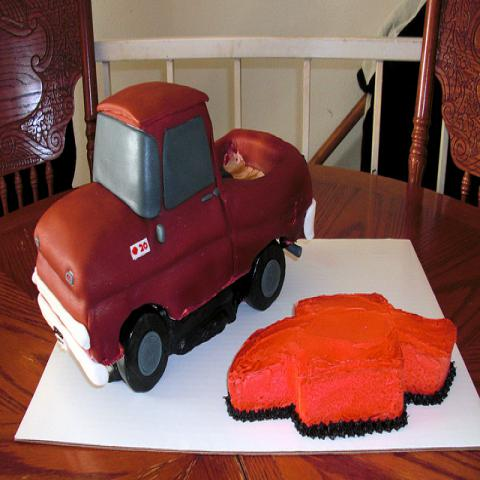car: (31, 82, 316, 393)
truck: (28, 74, 317, 394)
